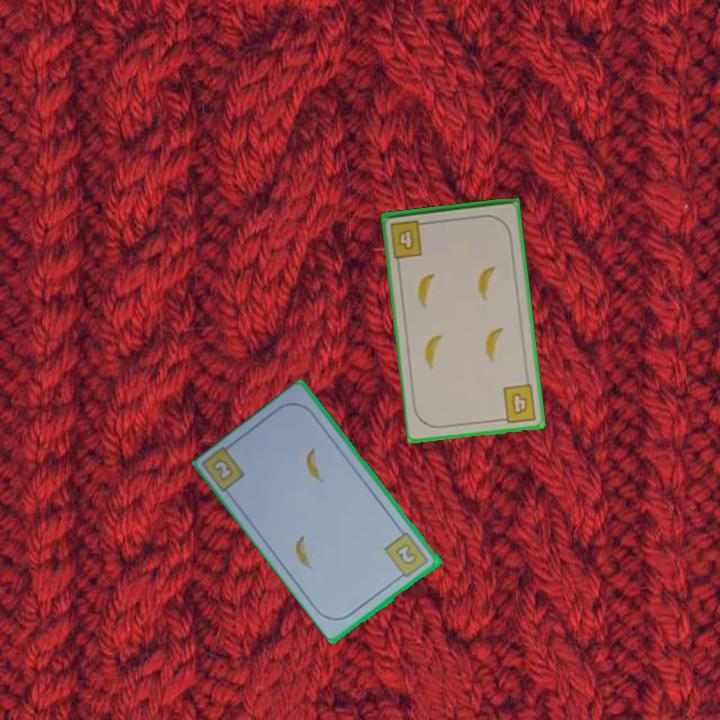2b: (381, 529, 432, 582), (211, 458, 235, 482)
4b: (386, 216, 431, 261), (496, 381, 540, 425)
